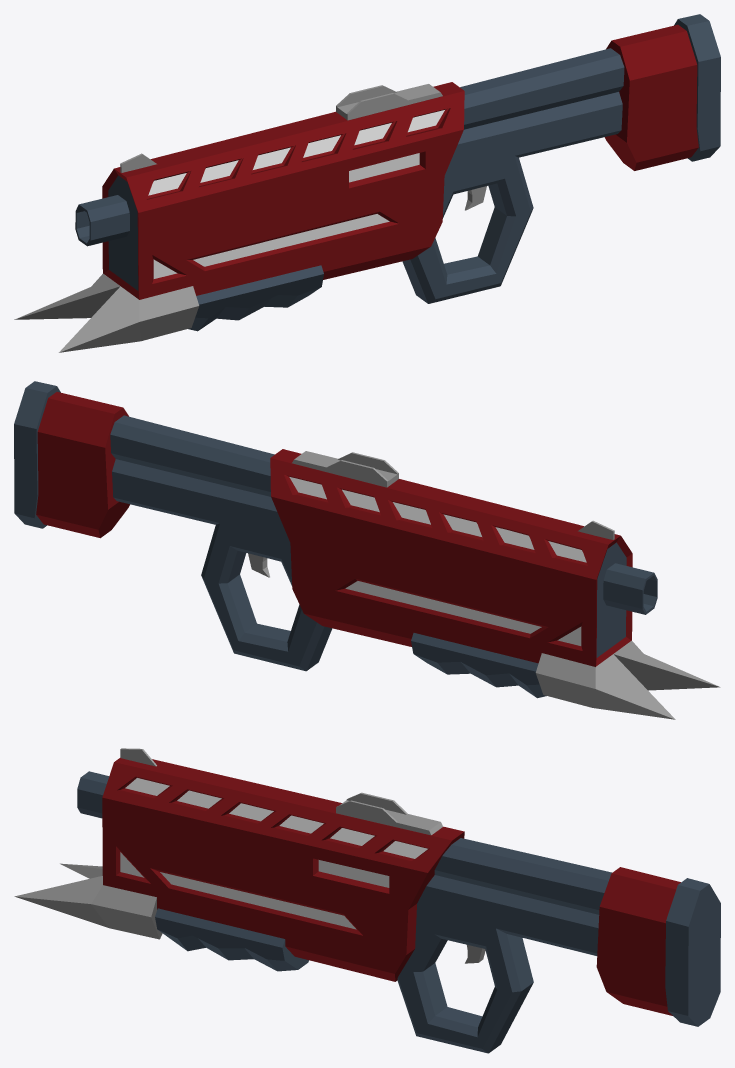
Rendered from Shotgun.fbx.
The picture shows the model from 3 angles, top to bottom: view 1: azimuth 30°, elevation 25°; view 2: azimuth 150°, elevation 25°; view 3: azimuth 330°, elevation 25°; orthographic projection.
Visible parts, largest first — view 1: Shotgun Body, Shotgun Handle, Shotgun Butt, Shotgun Blades, Shotgun Pump, Shotgun Butt Cover, Shotgun Barrel, Shotgun Back Sights; view 2: Shotgun Body, Shotgun Handle, Shotgun Butt, Shotgun Blades, Shotgun Pump, Shotgun Butt Cover, Shotgun Barrel, Shotgun Back Sights; view 3: Shotgun Body, Shotgun Handle, Shotgun Butt, Shotgun Butt Cover, Shotgun Blades, Shotgun Pump, Shotgun Back Sights, Shotgun Barrel.
Part boxes in pixels (x1,y1,x2,y2): Shotgun Body: (102, 82, 464, 299); Shotgun Handle: (402, 48, 624, 303); Shotgun Butt: (604, 24, 698, 170); Shotgun Blades: (14, 273, 199, 352); Shotgun Pump: (188, 265, 323, 331); Shotgun Butt Cover: (674, 14, 720, 161); Shotgun Barrel: (75, 195, 129, 246); Shotgun Back Sights: (336, 84, 442, 120); Shotgun Body: (270, 449, 632, 666); Shotgun Handle: (110, 415, 332, 671); Shotgun Butt: (36, 392, 129, 538); Shotgun Blades: (535, 640, 720, 719); Shotgun Pump: (411, 633, 546, 698); Shotgun Butt Cover: (14, 381, 60, 528); Shotgun Barrel: (603, 563, 657, 614); Shotgun Back Sights: (292, 451, 398, 487); Shotgun Body: (102, 758, 464, 981); Shotgun Handle: (397, 838, 611, 1053); Shotgun Butt: (596, 867, 680, 1015); Shotgun Butt Cover: (665, 878, 720, 1026); Shotgun Blades: (14, 863, 162, 939); Shotgun Pump: (155, 908, 308, 971); Shotgun Back Sights: (336, 792, 442, 835); Shotgun Barrel: (77, 771, 109, 818).
Size of the model in its own units: 314 by 98.15 by 39.19.
